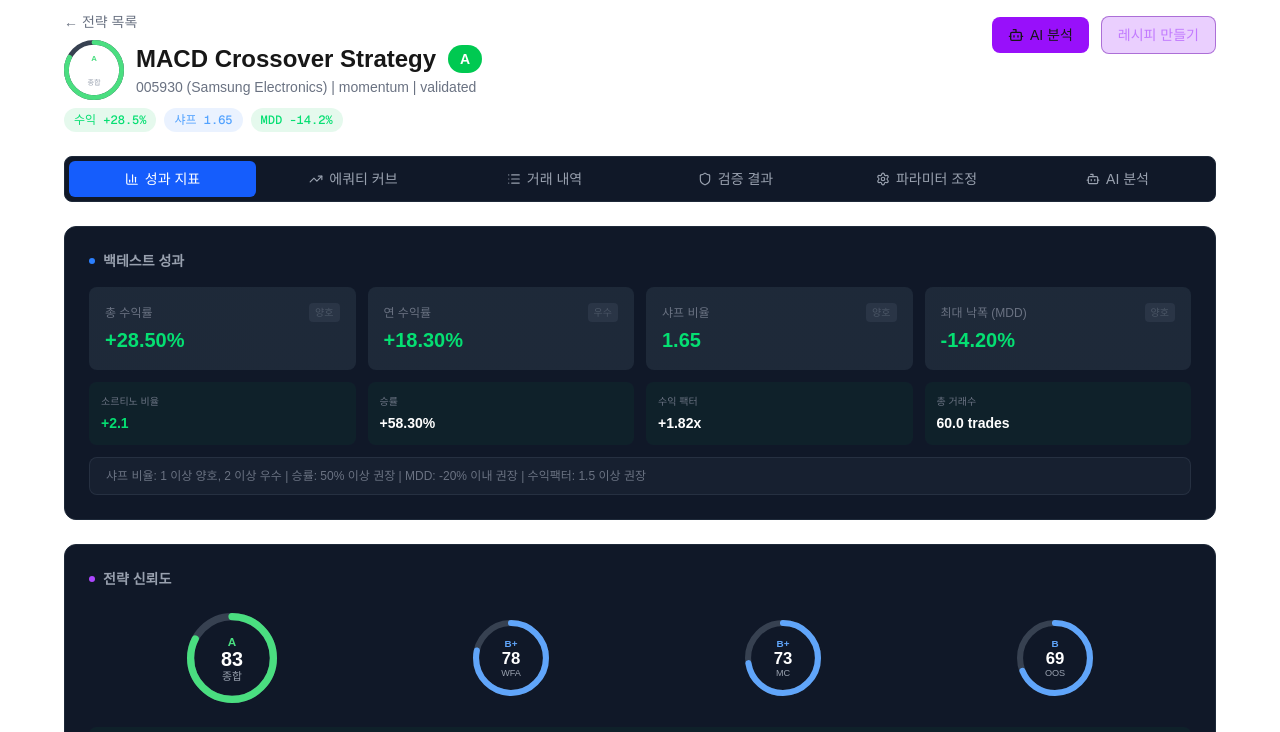
Test case: StrategyDetailPage › switches to params tab and shows parameter adjustment UI
Step 1. Click the button "파라미터 조정" → (926, 179), box [833,161,1020,197]
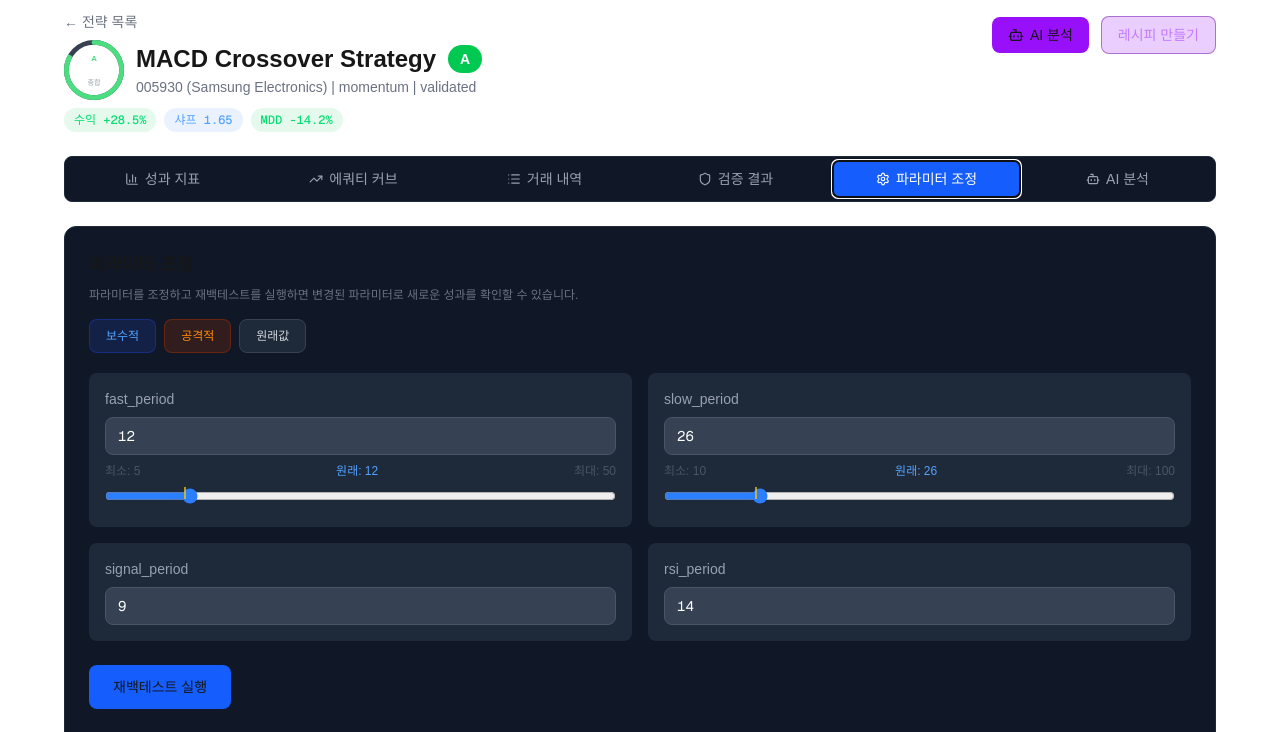
Check: the button "보수적" is shown, box [89,319,156,353]
Check: the button "공격적" is shown, box [164,319,231,353]
Check: the button "원래값" is shown, box [239,319,306,353]
